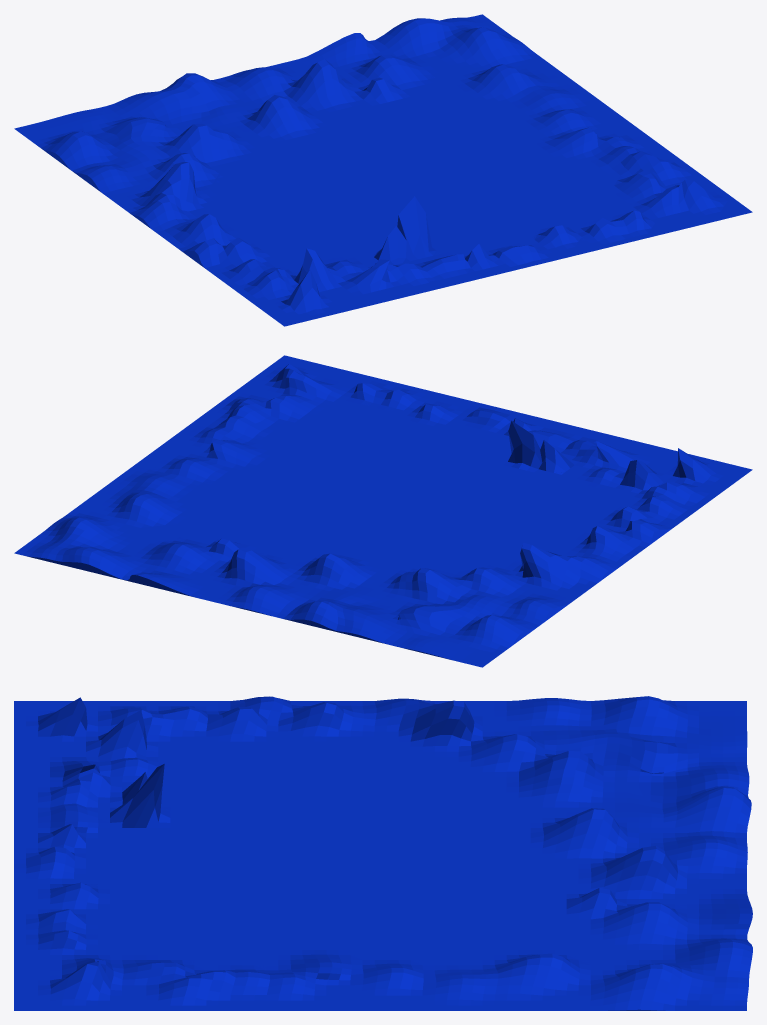
Rendered from map.obj.
3 renders of one model, top to bottom at view 1: azimuth 30°, elevation 25°; view 2: azimuth 150°, elevation 25°; view 3: azimuth 270°, elevation 25°, orthographic. The views are drawn at different scales.
Parts seen in each view (by area): view 1: Plane; view 2: Plane; view 3: Plane.
Boxes of the visible parts, box(x1,y1,x2,y2) form: Plane: box(14, 14, 752, 326); Plane: box(14, 355, 752, 667); Plane: box(14, 696, 752, 1010).
Bounding box in the file's own units: 10 × 0.9091 × 10.08.
